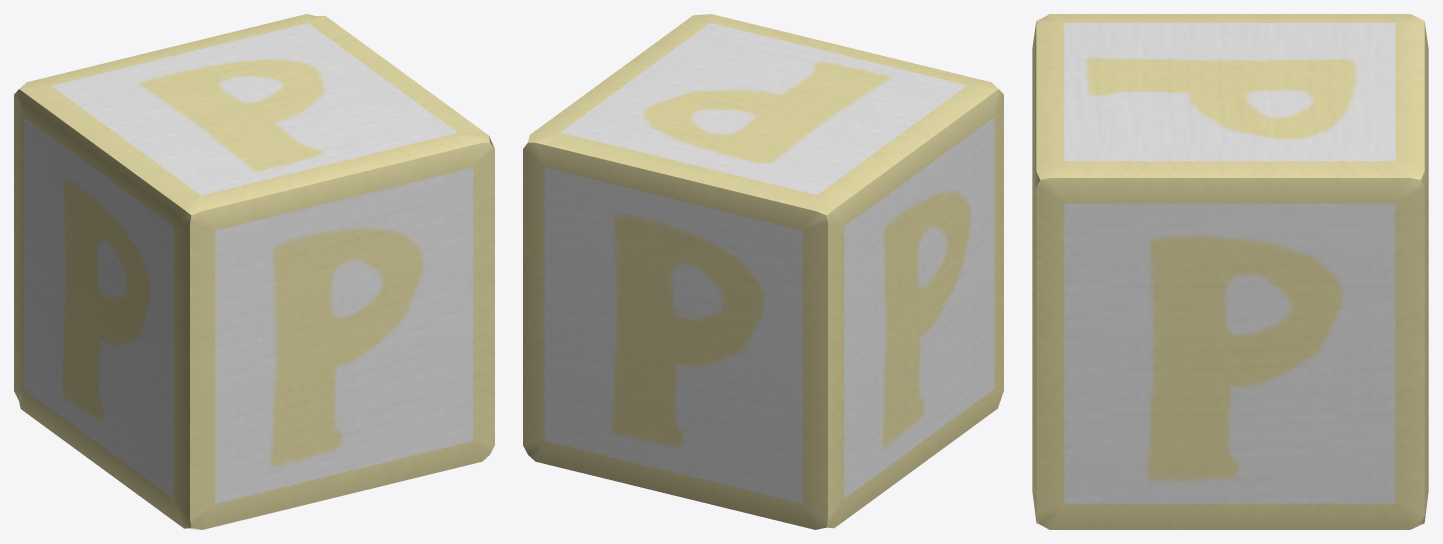
The model's file is BlockP.fbx.
3 renders of one model, left to right at view 1: azimuth 30°, elevation 25°; view 2: azimuth 150°, elevation 25°; view 3: azimuth 270°, elevation 25°, orthographic. The views are drawn at different scales.
Visible parts, largest first — view 1: pCube1; view 2: pCube1; view 3: pCube1.
Boxes of the visible parts, x1,y1,x2,y2 form: pCube1: (14, 14, 494, 529); pCube1: (523, 14, 1003, 529); pCube1: (1032, 14, 1428, 529).
Bounding box in the file's own units: 9 × 9 × 9.
